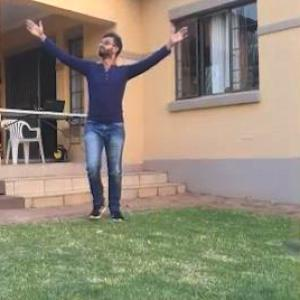takeoff: (39, 29, 196, 228)
